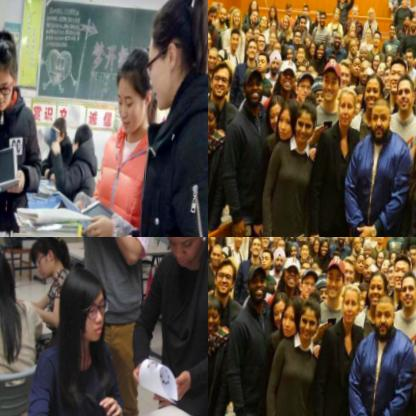head: (146, 0, 208, 107), (55, 265, 113, 343), (113, 57, 153, 133), (26, 237, 75, 282), (0, 34, 21, 107), (294, 96, 319, 141), (298, 293, 323, 338), (277, 98, 303, 139), (281, 295, 307, 336), (370, 97, 394, 140), (374, 294, 398, 337), (321, 60, 344, 101), (325, 257, 348, 298), (72, 119, 95, 157), (364, 72, 386, 110), (368, 269, 390, 307), (210, 60, 233, 96), (214, 257, 237, 293), (338, 85, 359, 124), (342, 282, 363, 321), (394, 72, 416, 109), (243, 68, 265, 104), (247, 265, 269, 301), (267, 94, 287, 131), (271, 291, 291, 328), (389, 55, 408, 92), (393, 252, 412, 289), (278, 59, 299, 92), (282, 256, 303, 289), (398, 269, 416, 306), (208, 294, 224, 332), (52, 112, 69, 146), (296, 69, 314, 100), (300, 266, 318, 297), (311, 79, 330, 108), (315, 276, 334, 305), (208, 97, 220, 135), (337, 56, 353, 83), (341, 253, 357, 280), (380, 64, 396, 88), (384, 261, 400, 285), (358, 57, 374, 80), (362, 254, 378, 277), (268, 48, 283, 72), (208, 241, 223, 265), (272, 245, 287, 269), (255, 49, 270, 71), (259, 246, 274, 268), (227, 28, 241, 51), (246, 36, 258, 60), (375, 59, 388, 78), (249, 237, 262, 256), (379, 256, 392, 275), (208, 44, 218, 68), (350, 55, 362, 74), (354, 252, 366, 271), (332, 28, 343, 48), (256, 33, 267, 52), (315, 38, 326, 57), (230, 7, 241, 24), (284, 42, 295, 59), (350, 0, 361, 17), (288, 239, 299, 256), (347, 37, 358, 53), (371, 28, 382, 44), (404, 47, 414, 64), (319, 237, 329, 254), (208, 3, 217, 21), (297, 43, 307, 59), (253, 24, 263, 40), (301, 240, 311, 256), (274, 237, 285, 251), (407, 244, 416, 261), (218, 6, 228, 21), (271, 39, 281, 54), (294, 28, 304, 43), (359, 44, 369, 59), (363, 241, 373, 256), (308, 37, 317, 53), (331, 4, 341, 18), (364, 25, 373, 40), (371, 52, 380, 67), (375, 249, 384, 264), (259, 237, 271, 248), (267, 4, 277, 17), (231, 237, 244, 247), (351, 237, 361, 250), (259, 11, 267, 27), (281, 14, 290, 28), (245, 24, 254, 38), (250, 9, 259, 23), (347, 27, 356, 41), (367, 4, 376, 18), (319, 9, 327, 24), (385, 50, 393, 65), (311, 237, 321, 249), (389, 247, 397, 262), (268, 19, 277, 32), (298, 15, 307, 28), (208, 25, 213, 48), (409, 13, 416, 29), (347, 20, 357, 31), (269, 30, 276, 45), (388, 22, 396, 35), (402, 12, 410, 25), (284, 1, 292, 13), (302, 1, 309, 14), (304, 33, 311, 46), (315, 8, 322, 20), (335, 237, 347, 244), (250, 0, 257, 8), (308, 237, 315, 243), (375, 237, 385, 241), (400, 0, 409, 4), (272, 237, 279, 241)
